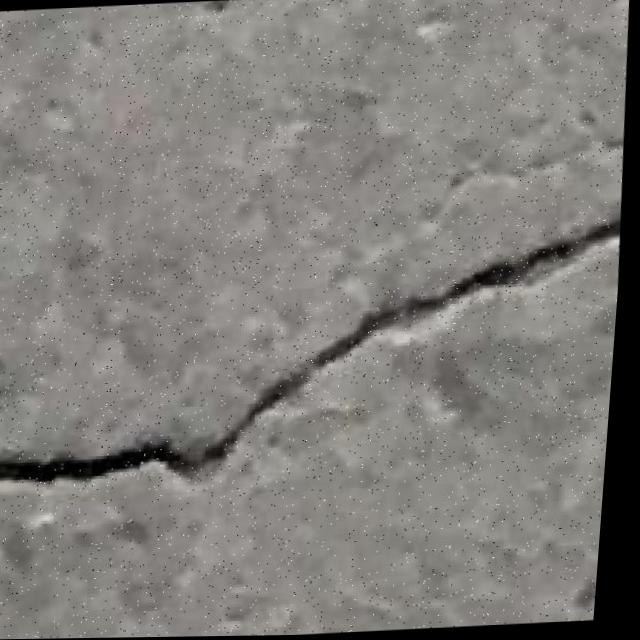Crack: (0, 212, 627, 504)
